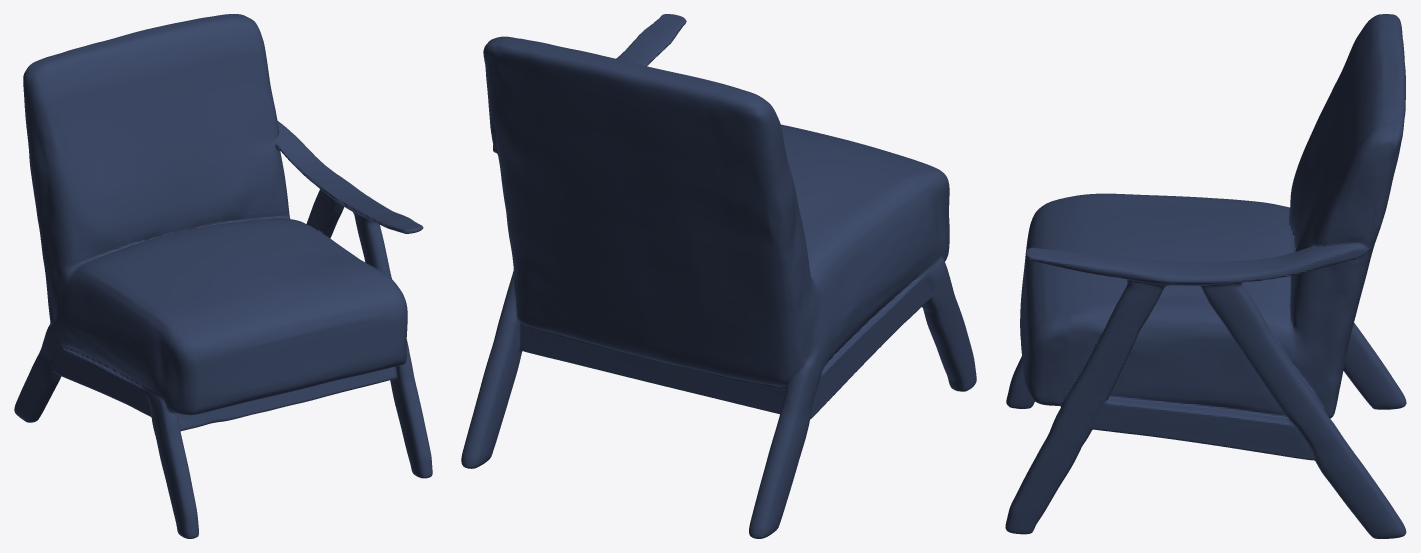
3 views of the same model, side by side, from view 1: azimuth 30°, elevation 25°; view 2: azimuth 150°, elevation 25°; view 3: azimuth 270°, elevation 25° (orthographic). The views are drawn at different scales.
Visible parts, largest first — view 1: tmphxcoxv8bply; view 2: tmphxcoxv8bply; view 3: tmphxcoxv8bply.
Part boxes in pixels (x1=…): tmphxcoxv8bply: x1=14, y1=14, x2=432, y2=538; tmphxcoxv8bply: x1=461, y1=14, x2=976, y2=538; tmphxcoxv8bply: x1=1005, y1=14, x2=1406, y2=538.
Size of the model in its own units: 0.9031 by 1.2 by 1.08.
